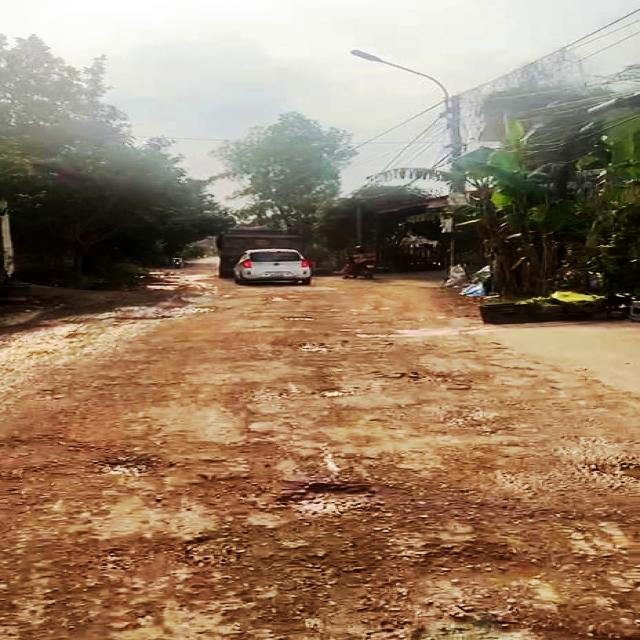pothole: (264, 481, 394, 516)
